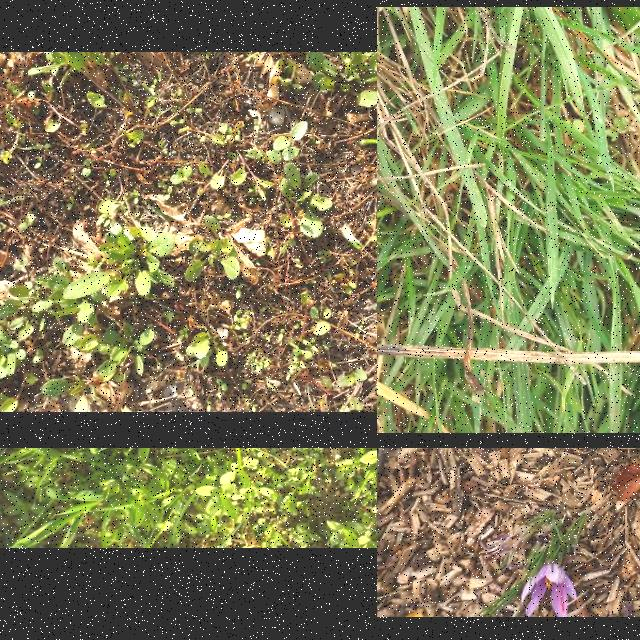flower: (520, 562, 580, 618)
